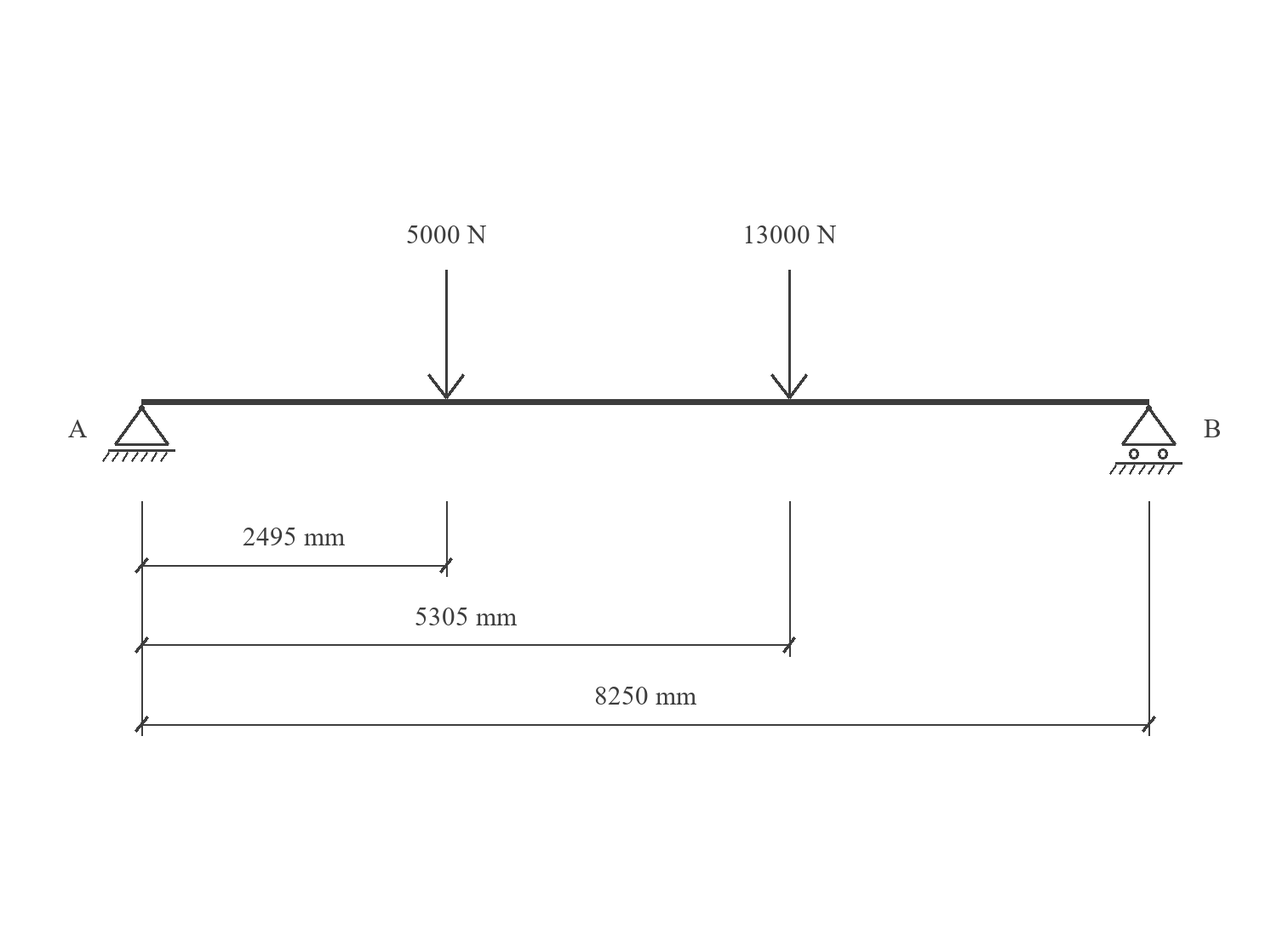pin_support: (102, 405, 175, 462)
point_load: (427, 270, 465, 399), (770, 270, 808, 399)
roller_support: (1109, 405, 1183, 475)
